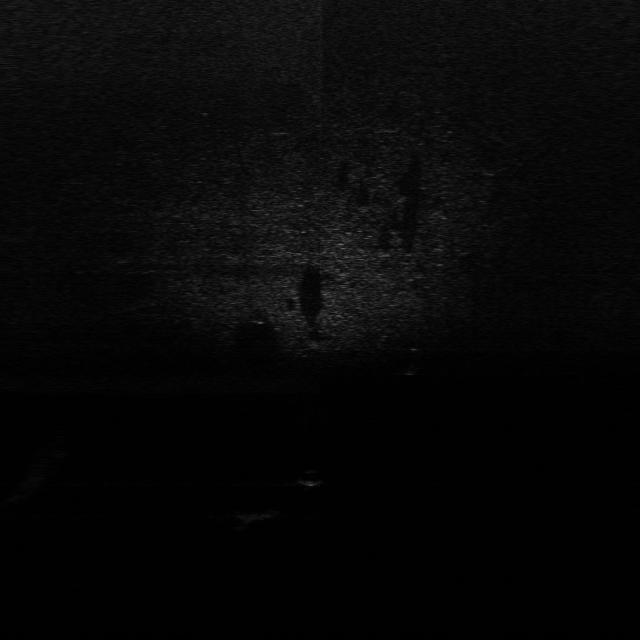ball: (291, 465, 328, 487)
square cage: (236, 500, 294, 523)
tyre: (400, 344, 430, 377)
